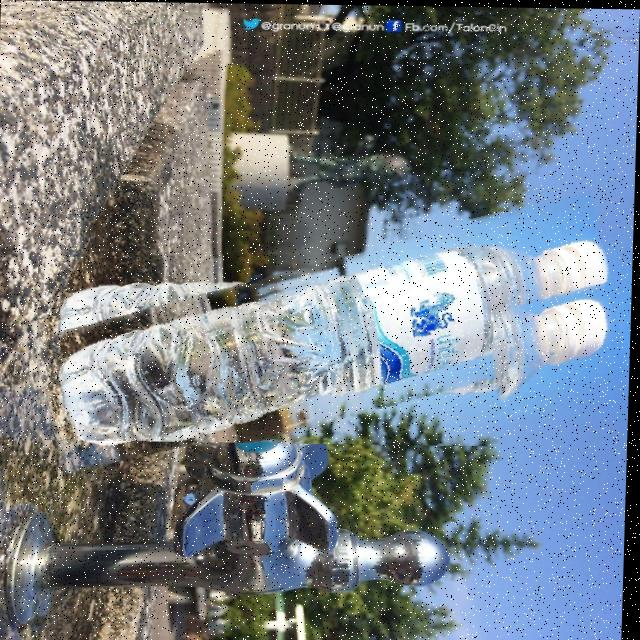plasticbottle: (34, 217, 623, 446)
plasticbottlecap: (493, 284, 633, 406)
